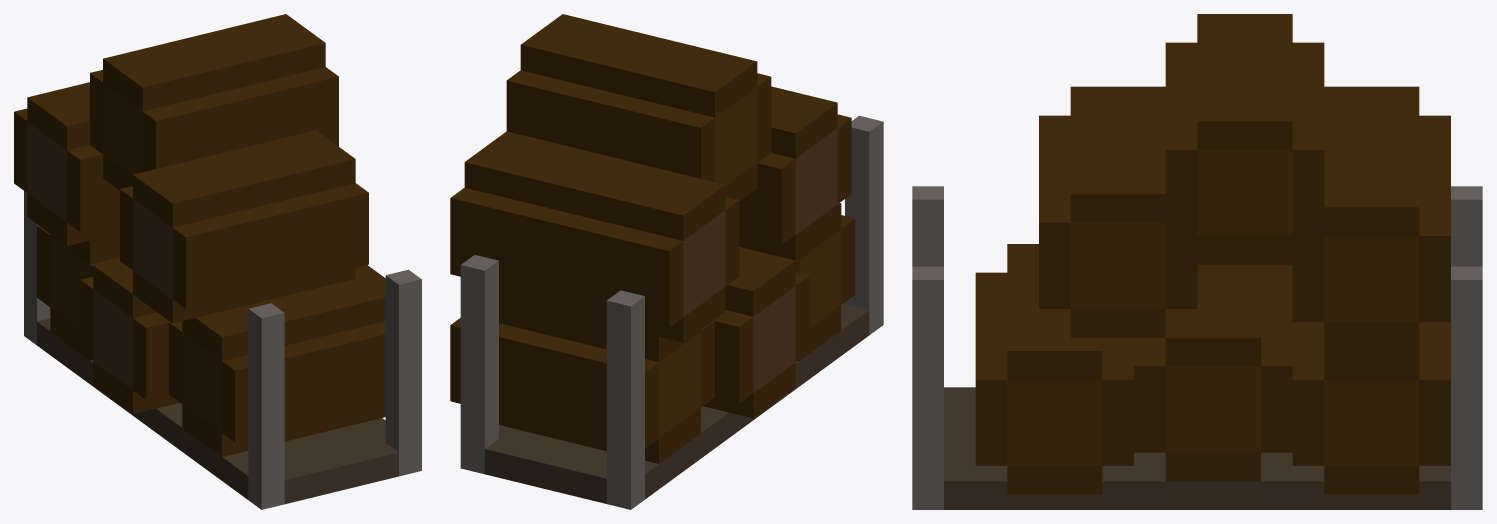
Rendered from Armazena Madeira.obj.
3 renders of one model, left to right at view 1: azimuth 30°, elevation 25°; view 2: azimuth 150°, elevation 25°; view 3: azimuth 270°, elevation 25°, orthographic. The views are drawn at different scales.
Bounding box in the file's own units: 0.9 × 1.4 × 1.8.
Materials: 1 (1 with a texture image).
